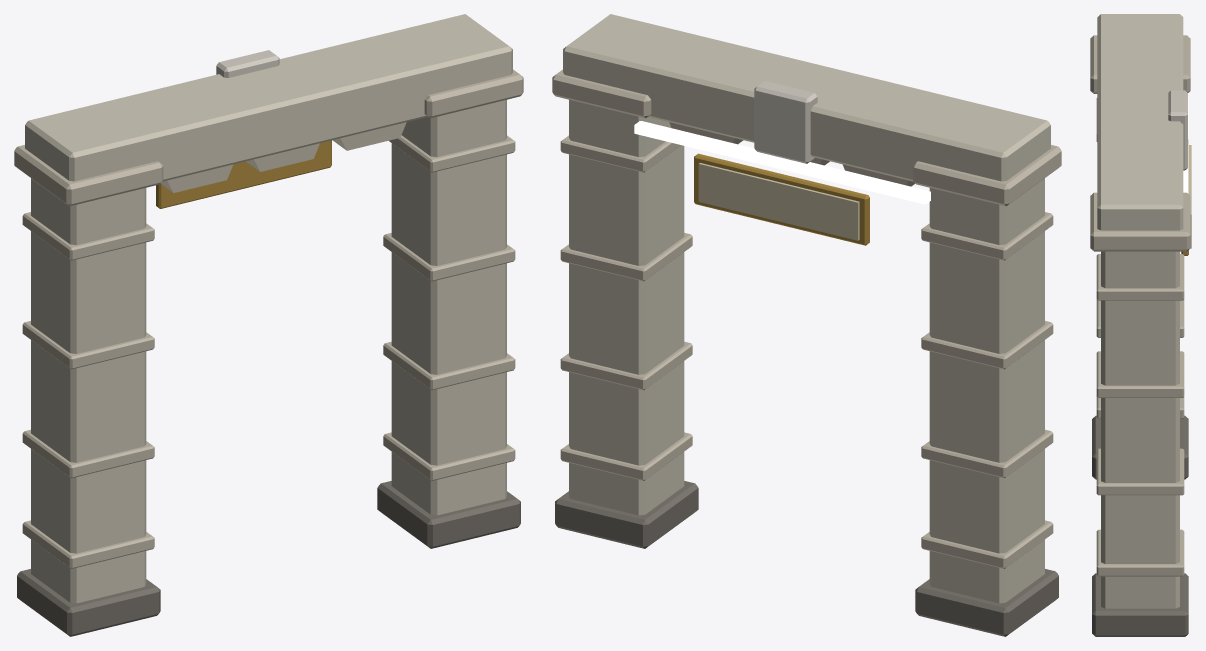
File: ArrivalArch.glb
The picture shows the model from 3 angles, left to right: view 1: azimuth 30°, elevation 25°; view 2: azimuth 150°, elevation 25°; view 3: azimuth 270°, elevation 25°; orthographic projection. The views are drawn at different scales.
Visible parts, largest first — view 1: Body; view 2: Body, Sign, Glow; view 3: Body, Sign, Glow.
Part boxes in pixels (bbox=[...]): Body: bbox=[14, 14, 523, 636]; Body: bbox=[552, 14, 1061, 636]; Sign: bbox=[698, 163, 859, 240]; Glow: bbox=[634, 121, 930, 204]; Body: bbox=[1090, 14, 1190, 636]; Sign: bbox=[1189, 145, 1191, 248]; Glow: bbox=[1183, 97, 1188, 193].
Size of what is drawn, in the model's own units: 13.2 by 13.5 by 2.83.
